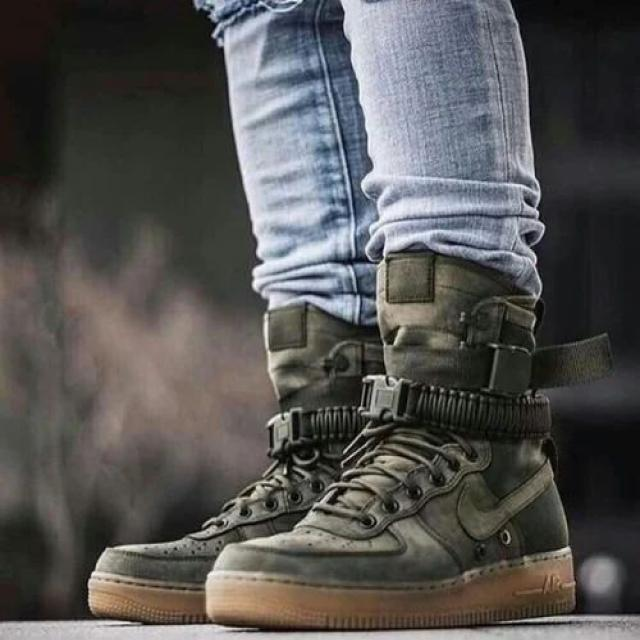boot: (197, 255, 612, 630)
